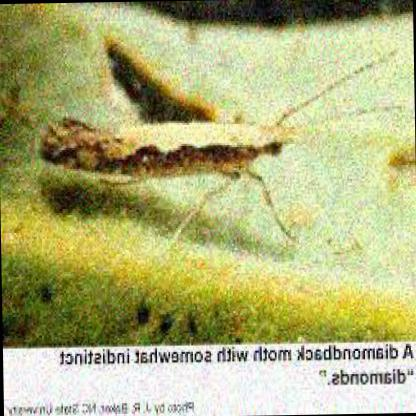plutella: (36, 54, 395, 236)
